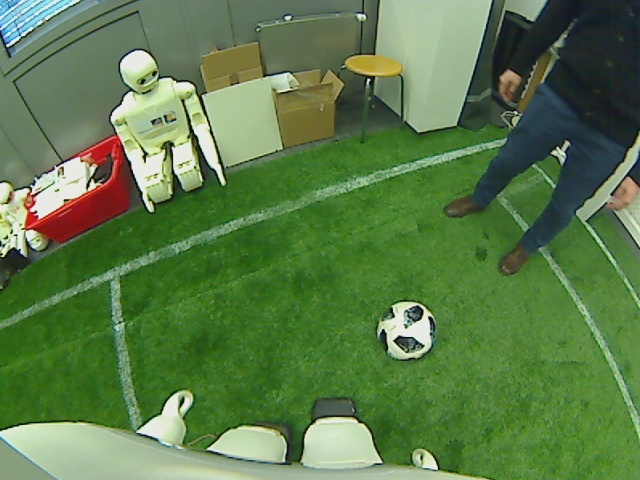ball: (376, 299, 437, 362)
